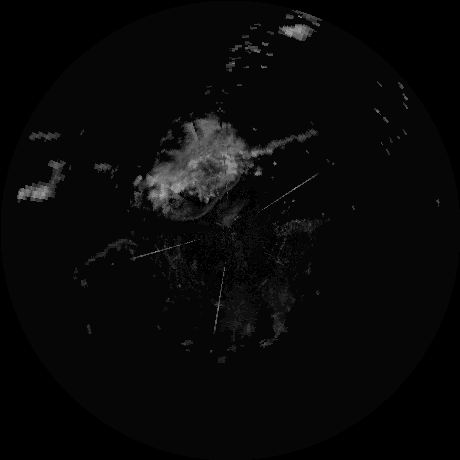frontgust: (174, 175, 242, 222)
